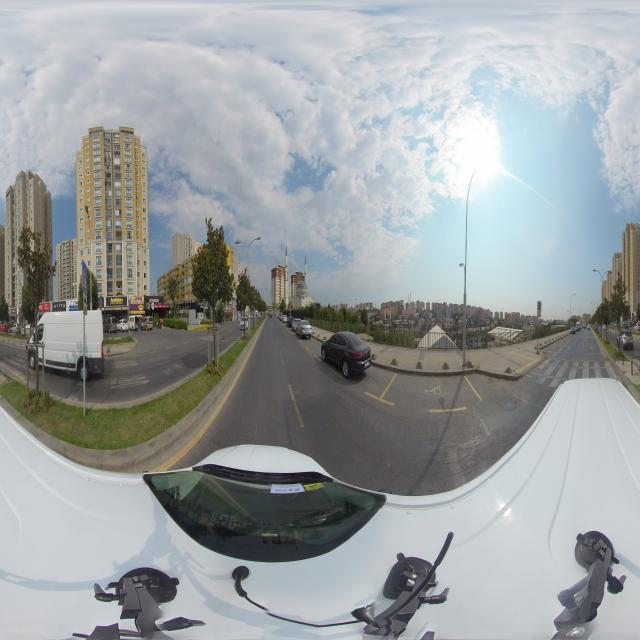SignStore: (106, 297, 127, 306), (146, 296, 162, 304), (52, 301, 66, 310), (39, 303, 50, 311), (130, 304, 144, 310), (69, 300, 78, 307), (10, 309, 16, 314)
